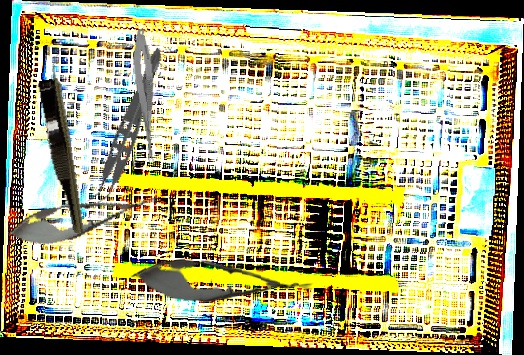Handpiece: (41, 47, 92, 235)
Micro Scissor: (4, 180, 162, 255), (129, 254, 316, 310), (34, 78, 84, 234), (129, 28, 164, 167)
Tissue Forceps: (85, 41, 168, 211)
